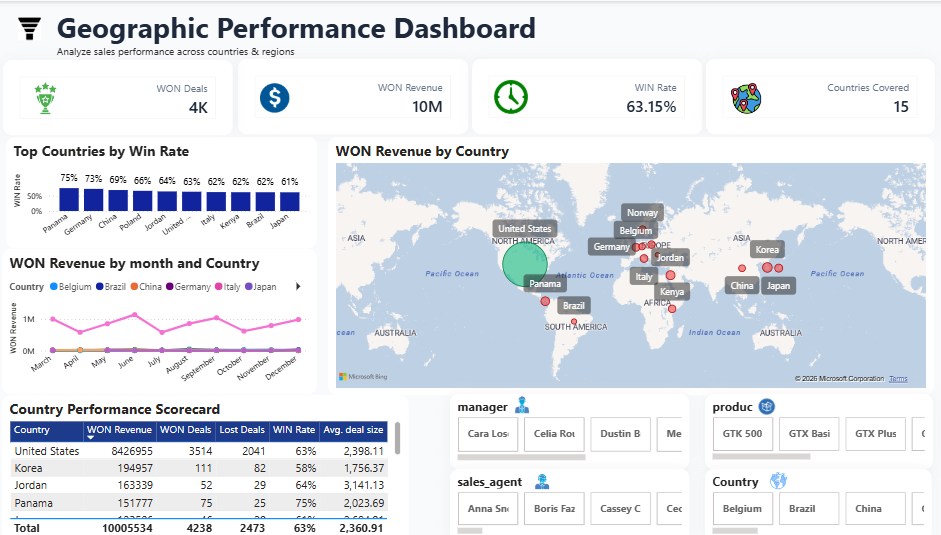

Layout of this report page (visuals, bound fields, positions):
{"tool":"powerbi","page":{"name":"Geographic Performance","canvas":[1280,720],"ordinal":3},"visuals":[{"type":"textbox","box":[80.5,4.4,1198.5,93.7],"z":0},{"type":"cardVisual","fields":{"Data":["Measures (2).WON Revenue"]},"box":[326.2,77.5,305.6,100],"z":1000},{"type":"cardVisual","fields":{"Data":["Measures (2).WIN Rate"]},"box":[637.3,77.5,305.6,100],"z":2000},{"type":"cardVisual","fields":{"Data":["Measures (2).Countries Covered"]},"box":[948.5,77.5,303.7,100],"z":3000},{"type":"image","box":[977.8,109.2,47.9,40.8],"z":4000},{"type":"cardVisual","fields":{"Data":["Measures (2).WON Deals"]},"box":[15,78.3,305,100],"z":5000},{"type":"image","box":[50.8,106.3,41.3,46],"z":6000},{"type":"image","box":[355.5,106.2,38.6,44.5],"z":7000},{"type":"lineChart","title":"WON Revenue by month and Country ","fields":{"Series":["Sales Pipeline.Country"],"Y":["Measures (2).WON Revenue"],"Category":["date.month"]},"box":[13.3,330,418.3,193.3],"z":8000},{"type":"clusteredColumnChart","title":"Top Countries by Win Rate","fields":{"Category":["Sales Pipeline.Country"],"Y":["Measures (2).WIN Rate"]},"box":[18.3,180,413.3,148.3],"z":9000},{"type":"tableEx","title":"Country Performance Scorecard","fields":{"Values":["Sales Pipeline.Country","Measures (2).WON Revenue","Measures (2).WON Deals","Measures (2).Lost Deals","Measures (2).WIN Rate","Measures (2).Avg. deal size"]},"box":[13.3,523.3,540,196.7],"z":10000},{"type":"map","fields":{"Category":["Sales Pipeline.Country"],"Size":["Measures (2).WON Revenue"]},"box":[446.7,180,805,343.3],"z":11000},{"type":"advancedSlicerVisual","fields":{"Values":["Sales Team.manager"]},"box":[608.3,521.7,318.3,100],"z":12000},{"type":"advancedSlicerVisual","fields":{"Values":["Sales Pipeline.sales_agent"]},"box":[608.3,621.7,318.3,98.3],"z":13000},{"type":"advancedSlicerVisual","fields":{"Values":["Products.product"]},"box":[946.8,522.4,302.9,99.5],"z":14000},{"type":"advancedSlicerVisual","fields":{"Values":["Sales Pipeline.Country"]},"box":[946.8,622,301.5,98],"z":15000},{"type":"image","box":[688.5,524,32,26],"z":16000},{"type":"image","box":[713.8,626.4,34.5,23],"z":17000},{"type":"image","box":[1010.3,525.3,36.8,28.7],"z":18000},{"type":"image","box":[1028.8,626.3,33.7,23.4],"z":19000},{"type":"image","box":[23.9,21.3,51.8,30.6],"z":20000},{"type":"image","box":[658.9,104.9,61.1,45.2],"z":21000}]}

Visuals, with their boxes in screenshot pixels (x1, y1, x2, y2), scaled from the page's 1280x720 canvas onto the 941x535 screenshot:
textbox: x1=59, y1=3, x2=940, y2=73
cardVisual - Measures (2).WON Revenue: x1=240, y1=58, x2=464, y2=132
cardVisual - Measures (2).WIN Rate: x1=469, y1=58, x2=693, y2=132
cardVisual - Measures (2).Countries Covered: x1=697, y1=58, x2=921, y2=132
image: x1=719, y1=81, x2=754, y2=111
cardVisual - Measures (2).WON Deals: x1=11, y1=58, x2=235, y2=132
image: x1=37, y1=79, x2=68, y2=113
image: x1=261, y1=79, x2=290, y2=112
"WON Revenue by month and Country " lineChart: x1=10, y1=245, x2=317, y2=389
"Top Countries by Win Rate" clusteredColumnChart: x1=13, y1=134, x2=317, y2=244
"Country Performance Scorecard" tableEx: x1=10, y1=389, x2=407, y2=534
map - Sales Pipeline.Country x Measures (2).WON Revenue: x1=328, y1=134, x2=920, y2=389
advancedSlicerVisual - Sales Team.manager: x1=447, y1=388, x2=681, y2=462
advancedSlicerVisual - Sales Pipeline.sales_agent: x1=447, y1=462, x2=681, y2=534
advancedSlicerVisual - Products.product: x1=696, y1=388, x2=919, y2=462
advancedSlicerVisual - Sales Pipeline.Country: x1=696, y1=462, x2=918, y2=534
image: x1=506, y1=389, x2=530, y2=409
image: x1=525, y1=465, x2=550, y2=483
image: x1=743, y1=390, x2=770, y2=412
image: x1=756, y1=465, x2=781, y2=483
image: x1=18, y1=16, x2=56, y2=39
image: x1=484, y1=78, x2=529, y2=112
